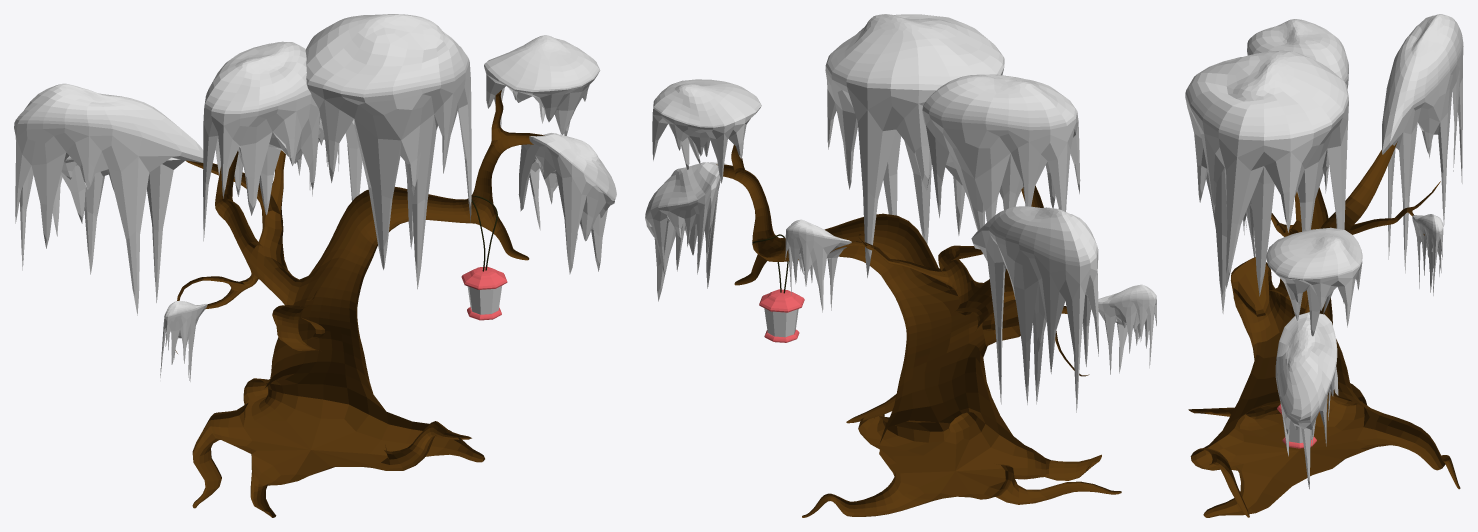
The model's file is willowLantern.fbx.
3 renders of one model, left to right at view 1: azimuth 30°, elevation 25°; view 2: azimuth 150°, elevation 25°; view 3: azimuth 270°, elevation 25°, orthographic.
Visible parts, largest first — view 1: hangLeaf.005GROUP.003; view 2: hangLeaf.005GROUP.003; view 3: hangLeaf.005GROUP.003.
Part boxes in pixels (x1,y1,x2,y2): hangLeaf.005GROUP.003: (14,14,616,517); hangLeaf.005GROUP.003: (645,14,1156,517); hangLeaf.005GROUP.003: (1185,14,1463,517).
Bounding box in the file's own units: 85202 × 68025 × 39691.
